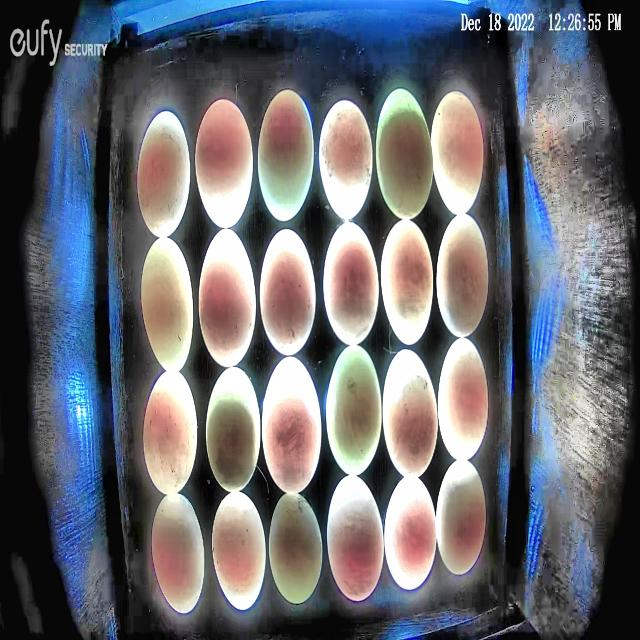UF: (261, 356, 323, 495), (198, 227, 256, 369), (375, 87, 434, 221), (194, 97, 253, 230), (257, 87, 315, 222), (258, 226, 318, 356), (326, 344, 384, 477), (140, 234, 195, 374), (326, 475, 386, 603), (204, 365, 263, 494), (382, 348, 440, 479), (135, 109, 191, 239), (318, 96, 374, 223), (430, 88, 484, 218), (151, 491, 207, 616), (143, 370, 199, 494), (324, 220, 379, 346), (380, 220, 434, 347), (212, 491, 267, 613), (436, 338, 489, 463), (268, 489, 324, 605), (436, 214, 488, 338), (384, 476, 438, 592), (435, 458, 487, 578)
